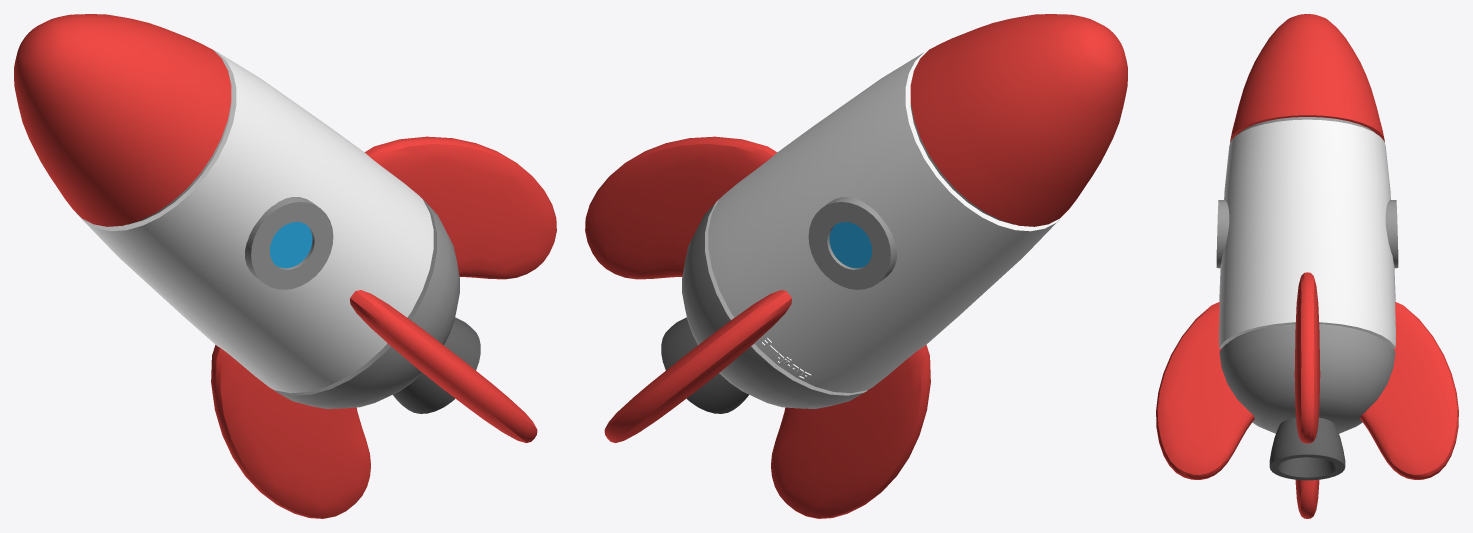
Rendered from rocket.fbx.
3 renders of one model, left to right at view 1: azimuth 30°, elevation 25°; view 2: azimuth 150°, elevation 25°; view 3: azimuth 270°, elevation 25°, orthographic. The views are drawn at different scales.
Parts seen in each view (by area): view 1: Circle.2410; view 2: Circle.2410; view 3: Circle.2410.
Part boxes in pixels (x1,y1,x2,y2): Circle.2410: [14, 14, 556, 518]; Circle.2410: [585, 14, 1127, 518]; Circle.2410: [1156, 14, 1458, 518].
Size of the model in its own units: 229 by 229 by 155.
Materials: 1 (1 with a texture image).
